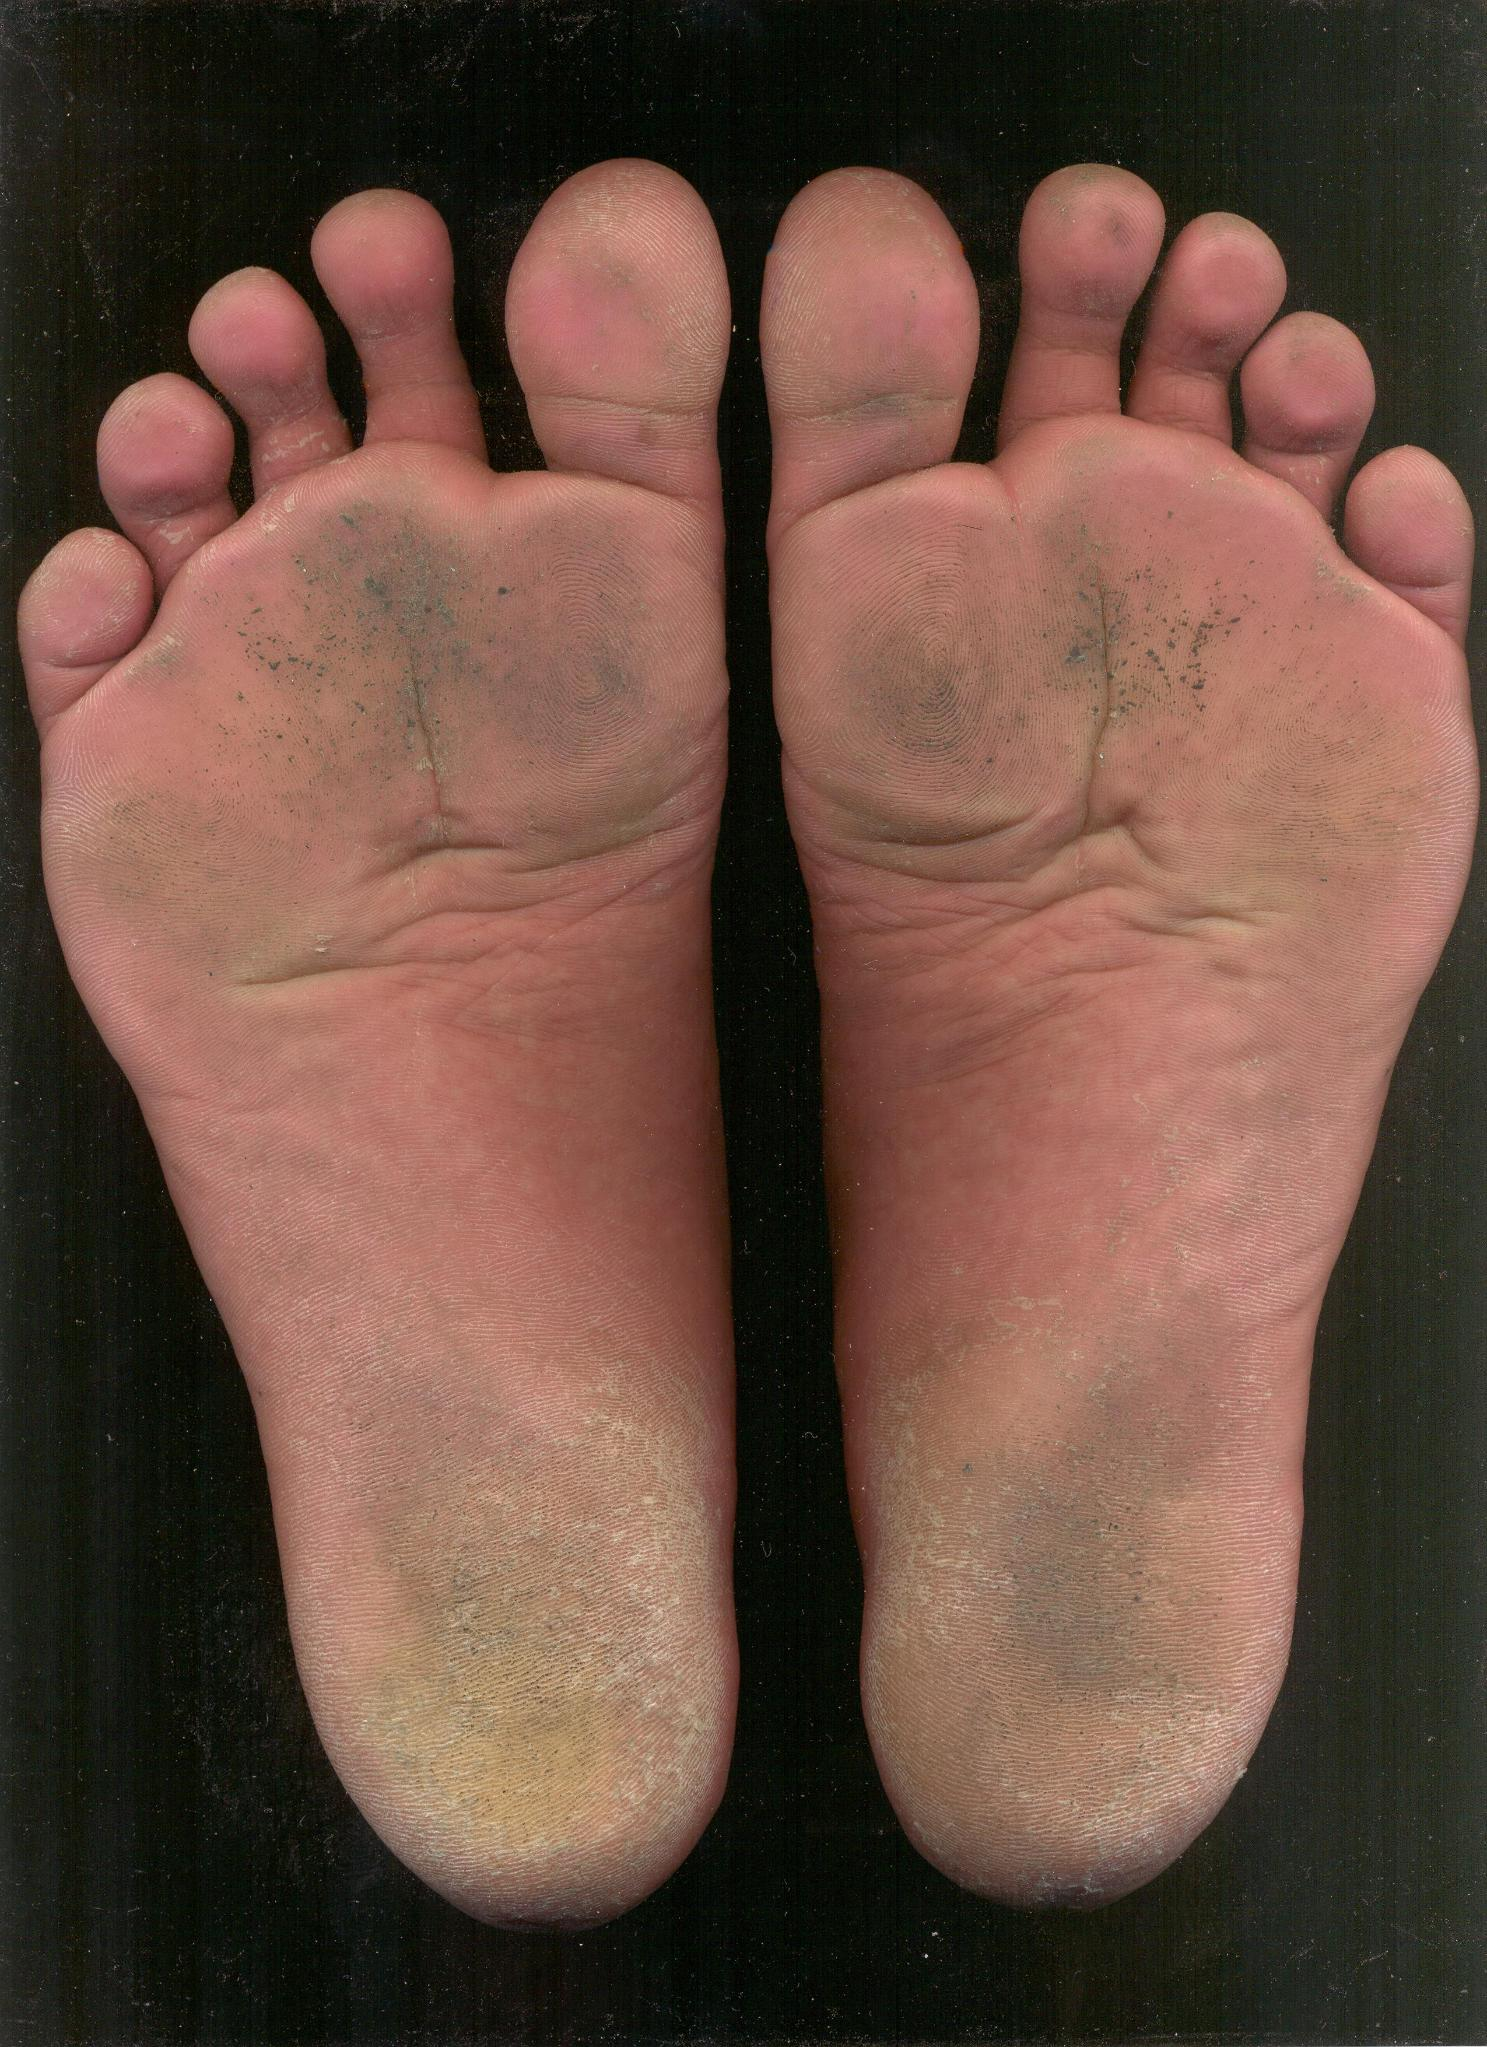Present: (17, 135, 788, 1937), (764, 118, 1487, 1918)
